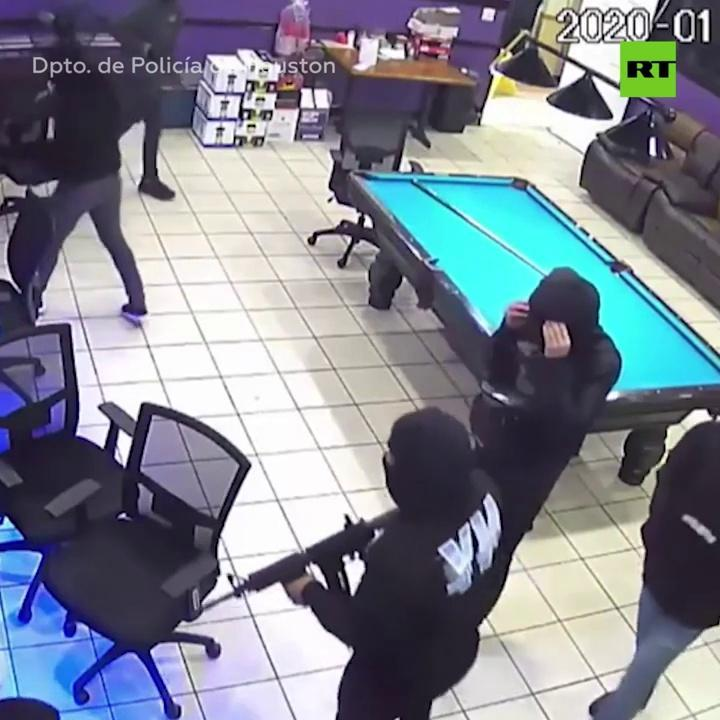Long guns: (167, 502, 404, 648)
